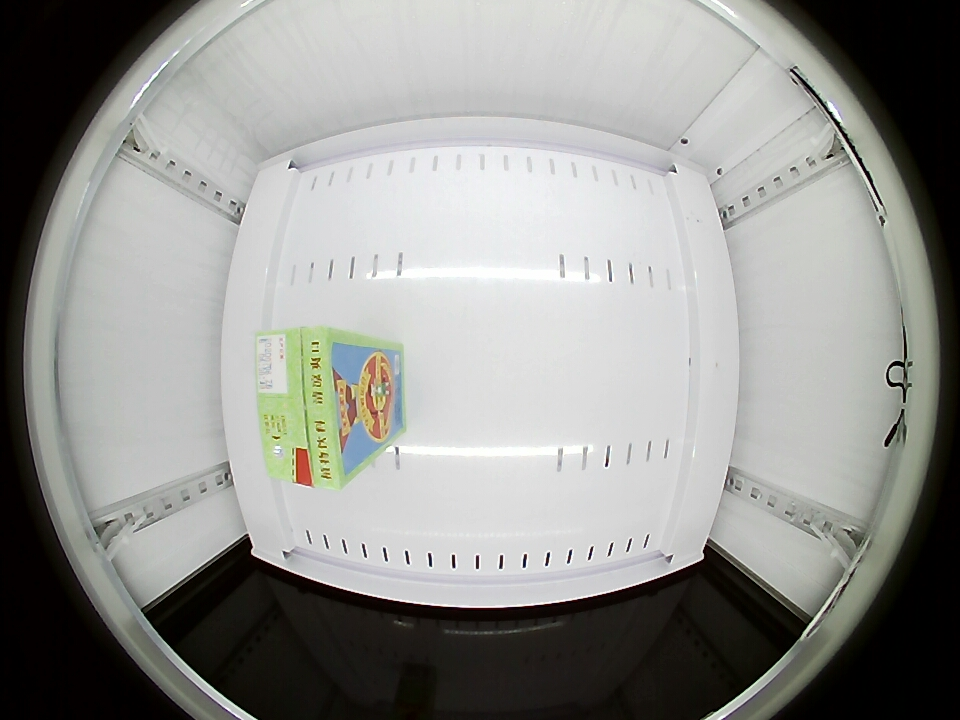wanglaoji: (257, 328, 361, 491)
